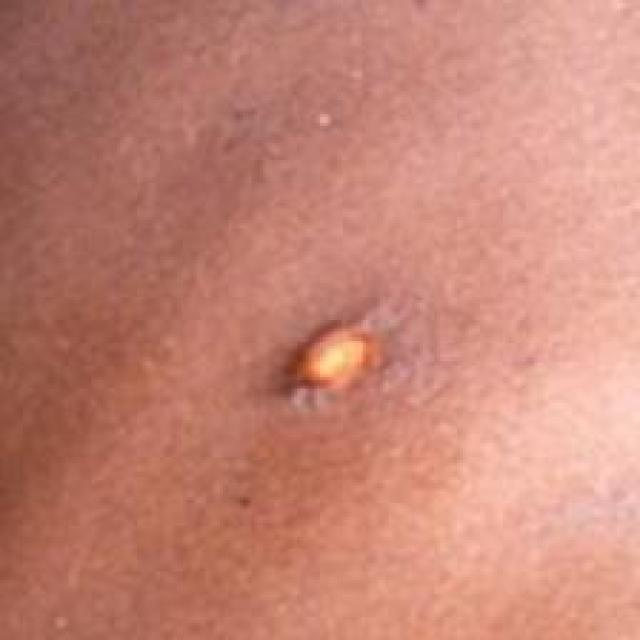monkeypox: (152, 134, 508, 541)
